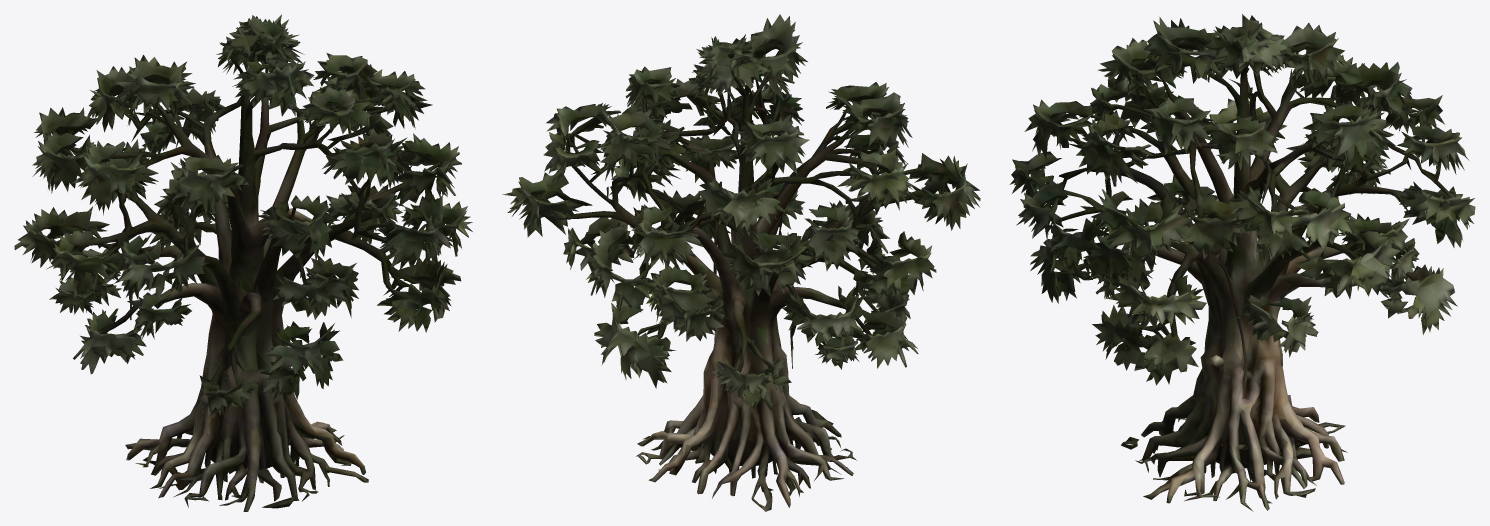
Rendered from tree_giant.glb.
The picture shows the model from 3 angles, left to right: view 1: azimuth 30°, elevation 25°; view 2: azimuth 150°, elevation 25°; view 3: azimuth 270°, elevation 25°; orthographic projection. The views are drawn at different scales.
Parts seen in each view (by area): view 1: tripo_node_a9ebec97-8e02-4968-a12a-1c3d4f283301; view 2: tripo_node_a9ebec97-8e02-4968-a12a-1c3d4f283301; view 3: tripo_node_a9ebec97-8e02-4968-a12a-1c3d4f283301.
Part boxes in pixels (box(x1,y1,x2,y2)): tripo_node_a9ebec97-8e02-4968-a12a-1c3d4f283301: box(14, 14, 472, 511); tripo_node_a9ebec97-8e02-4968-a12a-1c3d4f283301: box(502, 14, 980, 511); tripo_node_a9ebec97-8e02-4968-a12a-1c3d4f283301: box(1009, 14, 1475, 511).
Bounding box in the file's own units: 0.9325 × 1 × 0.9352.
Materials: 1 (1 with a texture image).
